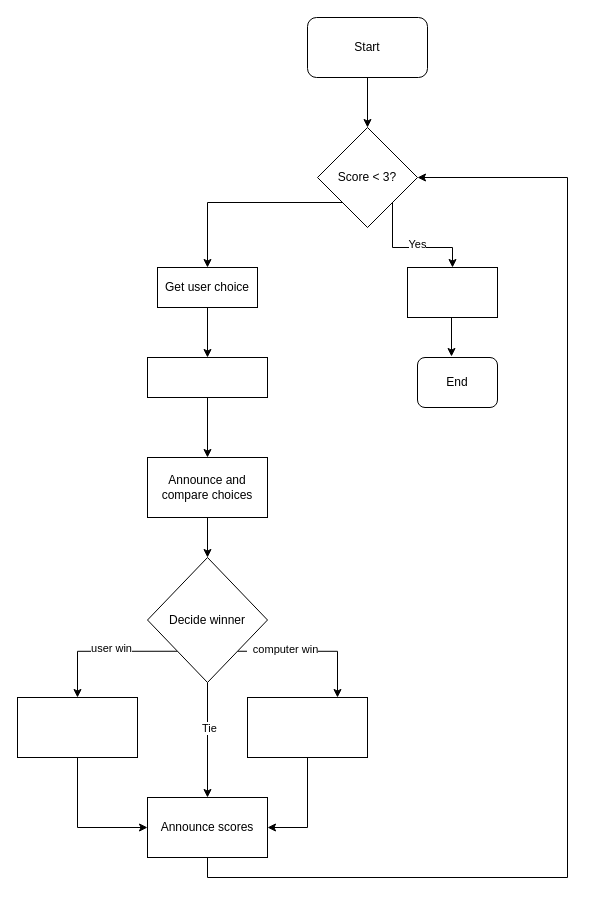
Some shapes in this 593 by 903 pixel diagram are drawn without their labels. Each missing label, with the centre of its shape:
+1 computer score: point (307, 727)
+1 user score: point (77, 727)
Get computer choice: point (207, 377)
You win/lose!: point (452, 292)
